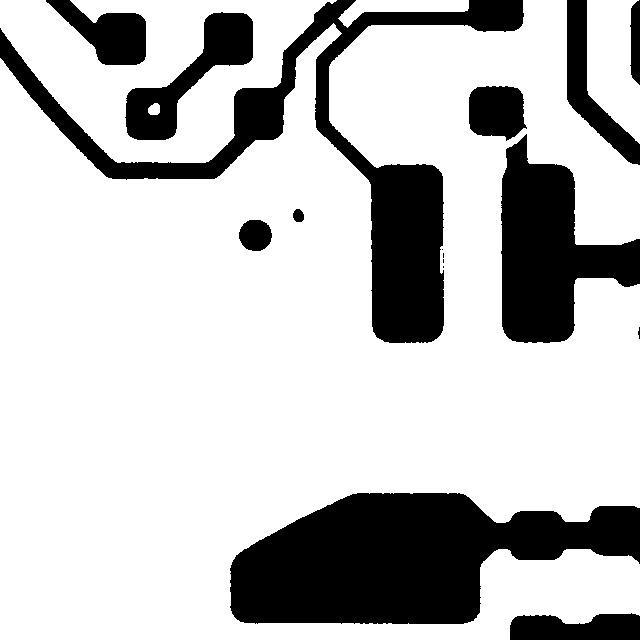copper: (283, 199, 313, 231)
mousebite: (430, 236, 453, 283)
open: (490, 118, 537, 159)
pin-hole: (138, 93, 169, 124)
short: (312, 0, 360, 45)
spur: (304, 0, 341, 32)
